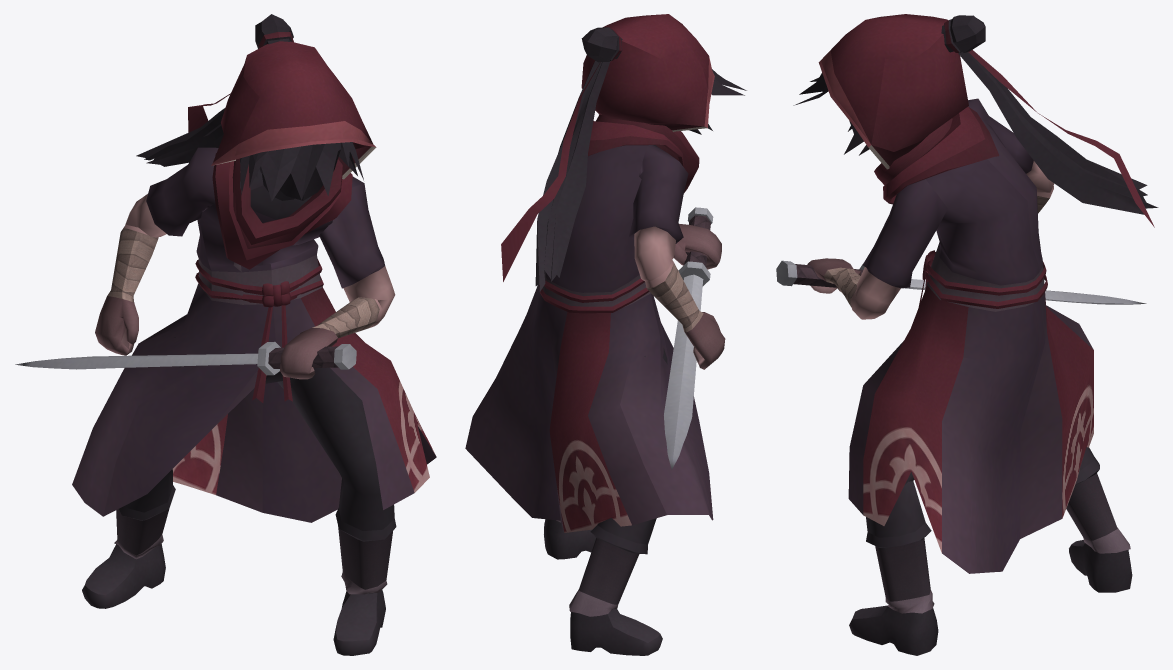
Rendered from boss_Idle.FBX.
3 views of the same model, side by side, from view 1: azimuth 30°, elevation 25°; view 2: azimuth 150°, elevation 25°; view 3: azimuth 270°, elevation 25° (orthographic). The views are drawn at different scales.
Visible parts, largest first — view 1: Object035, Box010, Box009, Object037, Plane010, Object039; view 2: Object035, Box010, Box009, Plane010, Object037, Object039; view 3: Object035, Box010, Box009, Object037, Object039, Plane010.
Boxes of the visible parts, x1,y1,x2,y2 form: Object035: (72,142,436,655); Box010: (211,41,376,179); Box009: (136,14,363,201); Object037: (212,153,352,269); Plane010: (15,341,356,375); Object039: (195,259,323,402); Object035: (465,145,725,655); Box010: (581,14,714,131); Box009: (501,27,746,291); Plane010: (664,207,713,469); Object037: (588,114,699,192); Object039: (539,278,649,313); Object035: (807,98,1132,655); Box010: (818,14,968,169); Box009: (793,15,1158,227); Object037: (874,106,999,204); Object039: (918,250,1047,308); Plane010: (776,260,1146,304).
Size of the model in its own units: 2.02 by 3.65 by 2.11.
1 material, 1 textured.
